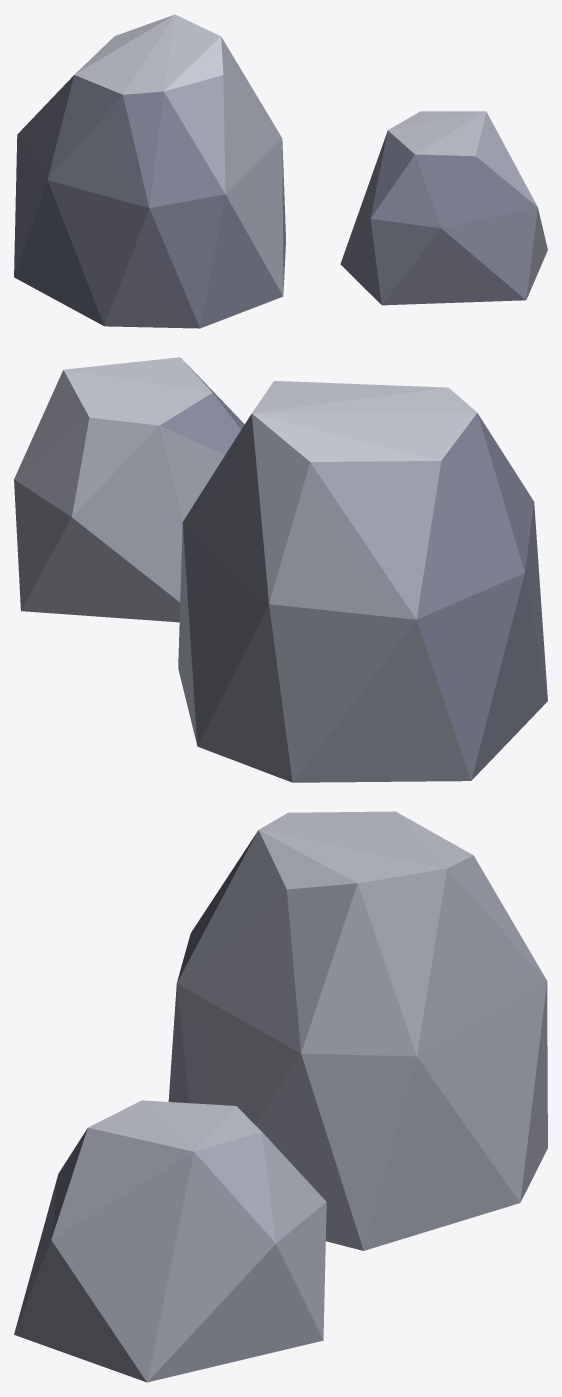
Rendered from stone_largeF.glb.
The picture shows the model from 3 angles, top to bottom: view 1: azimuth 30°, elevation 25°; view 2: azimuth 150°, elevation 25°; view 3: azimuth 270°, elevation 25°; orthographic projection. The views are drawn at different scales.
Parts seen in each view (by area): view 1: stone_largeF; view 2: stone_largeF; view 3: stone_largeF.
Part boxes in pixels (x1,y1,x2,y2): stone_largeF: (14,14,547,328); stone_largeF: (14,357,547,782); stone_largeF: (14,811,547,1382).
Bounding box in the file's own units: 0.9582 × 0.478 × 0.7125.
1 material, 1 textured.
